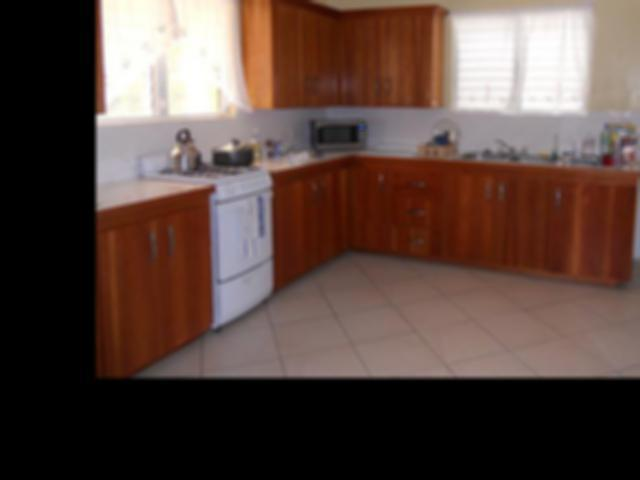Lavaplatos: (450, 137, 558, 167)
